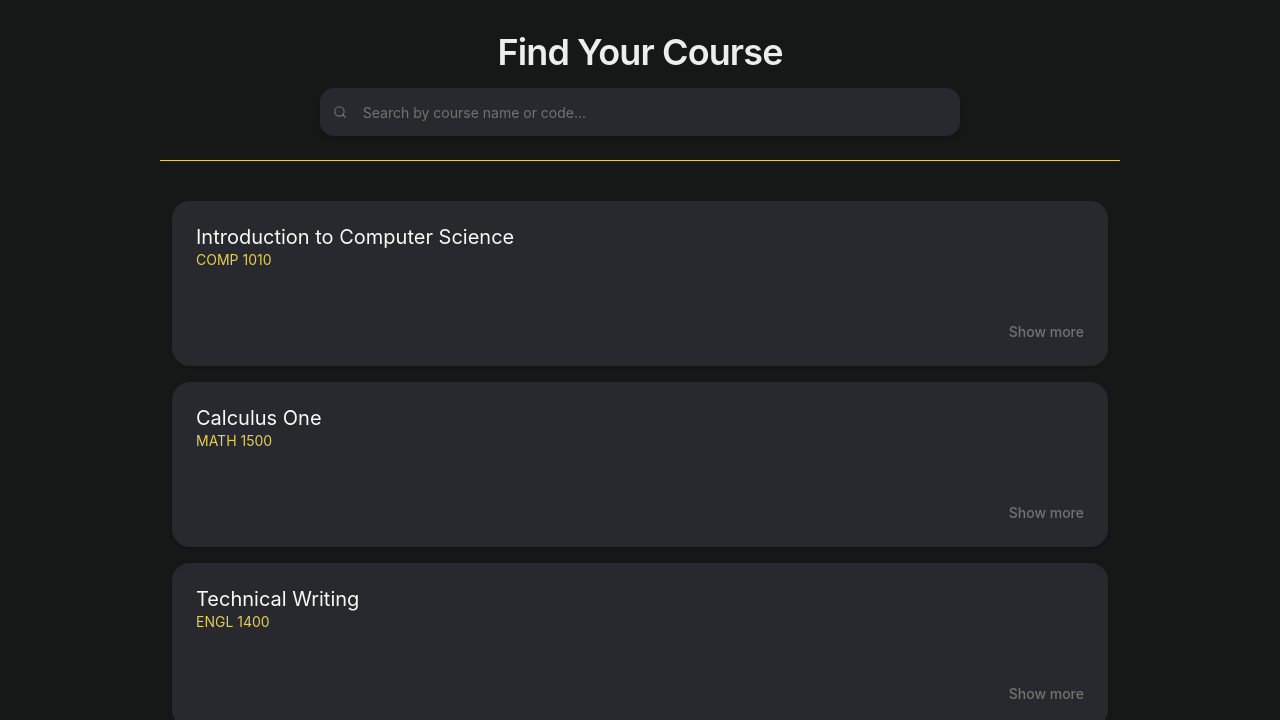
Scenario: Home — expand and collapse › shows course description after clicking Show more
The image size is (1280, 720).
Expected: the text "Introduction to Computer Science" is shown, [196, 225, 514, 249]
Click the 1st button "Show more": (1046, 332) [1009, 322, 1084, 342]
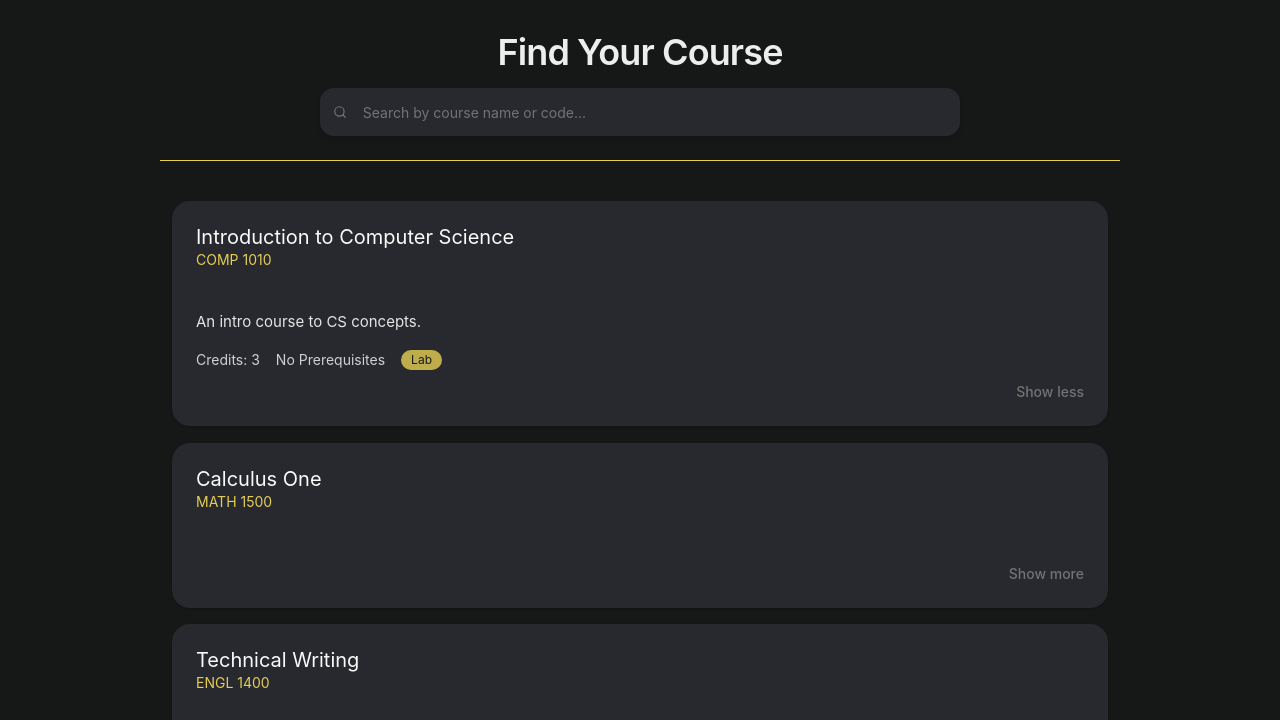
Expected: the text "An intro course to CS concepts." is shown, [196, 312, 421, 331]
